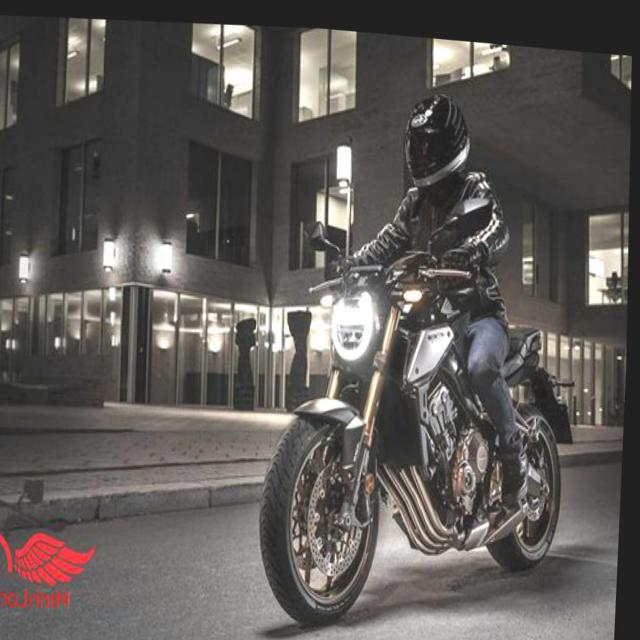CB650R: (252, 202, 589, 634)
